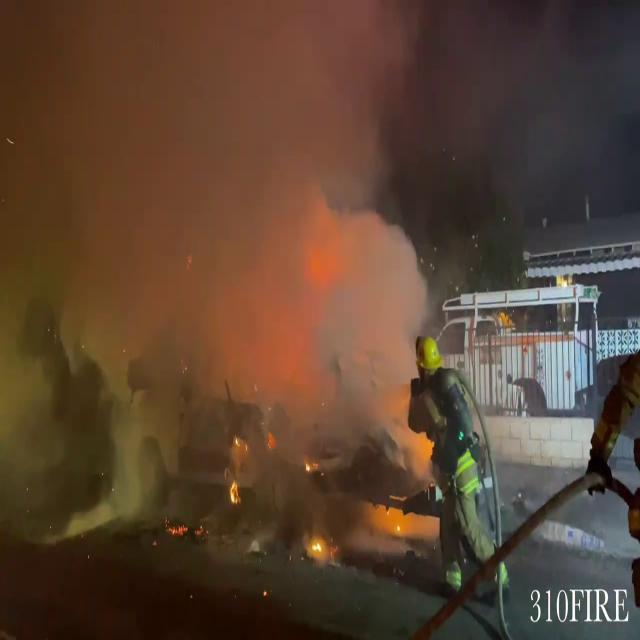Smoke: (0, 1, 450, 580)
